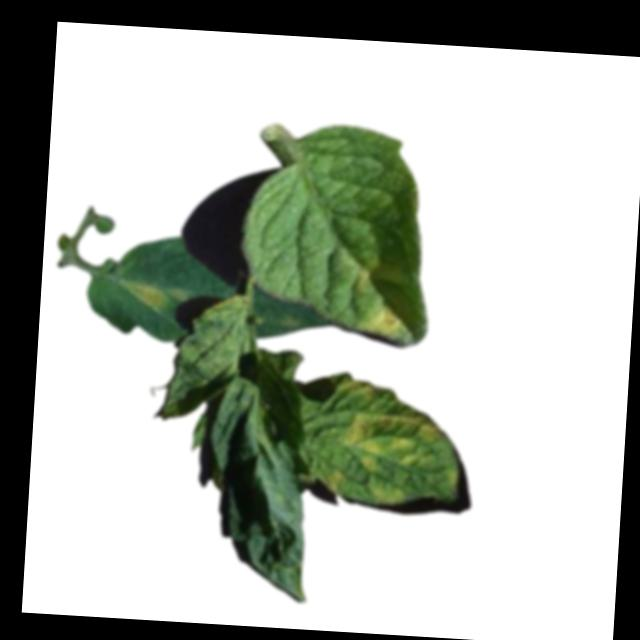Leaf_Mold: (344, 376, 445, 471), (117, 277, 191, 312), (359, 304, 399, 339), (368, 481, 407, 507), (350, 262, 369, 294), (321, 471, 344, 495)
